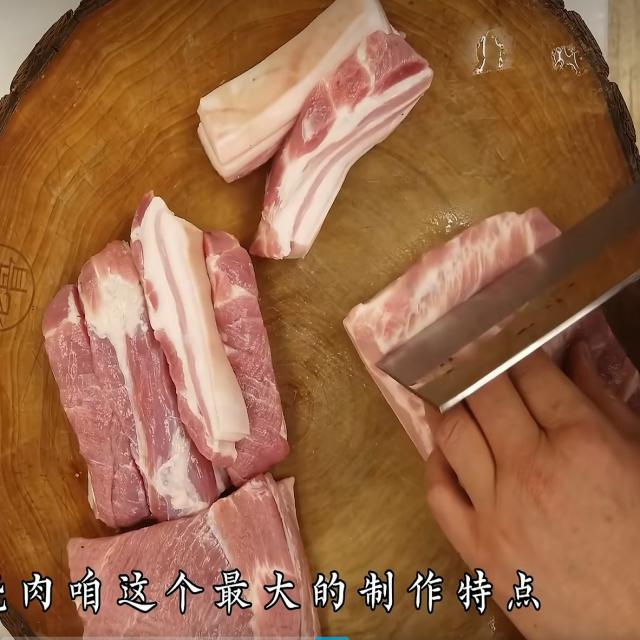pork: (43, 218, 310, 578), (222, 0, 406, 248)
